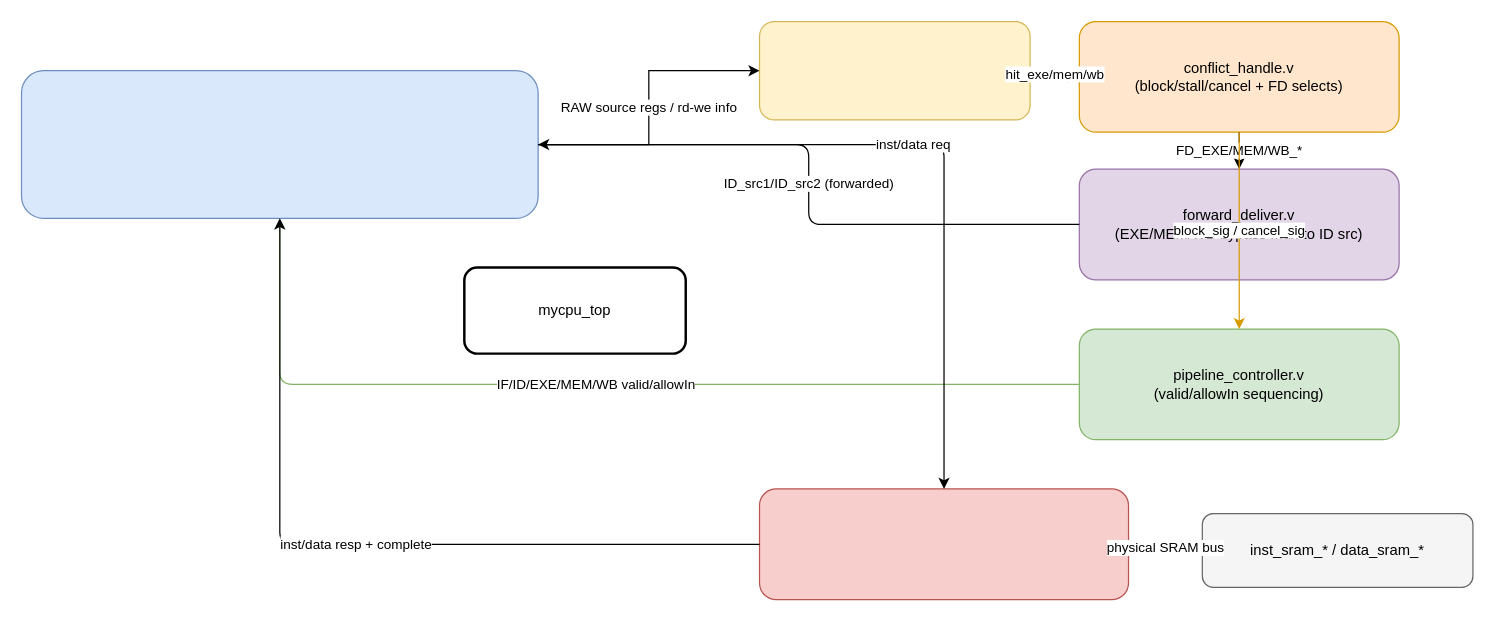
Some shapes in this 1494 by 621 pixel diagram are drawn without their labels. Here are the shapes that lost their labels. From the top down, the box of each, then its label:
(758, 20, 1030, 120): conflict_detector.v (RAW hit detect)
(20, 69, 538, 218): IF/ID/EXE/MEM/WB Datapath (pc,npc,IFport,IDport,EXEport,MEMport,WBport + *_reg)
(758, 488, 1129, 600): bram_data_stream_controller.v (inst/data request-response timing)
